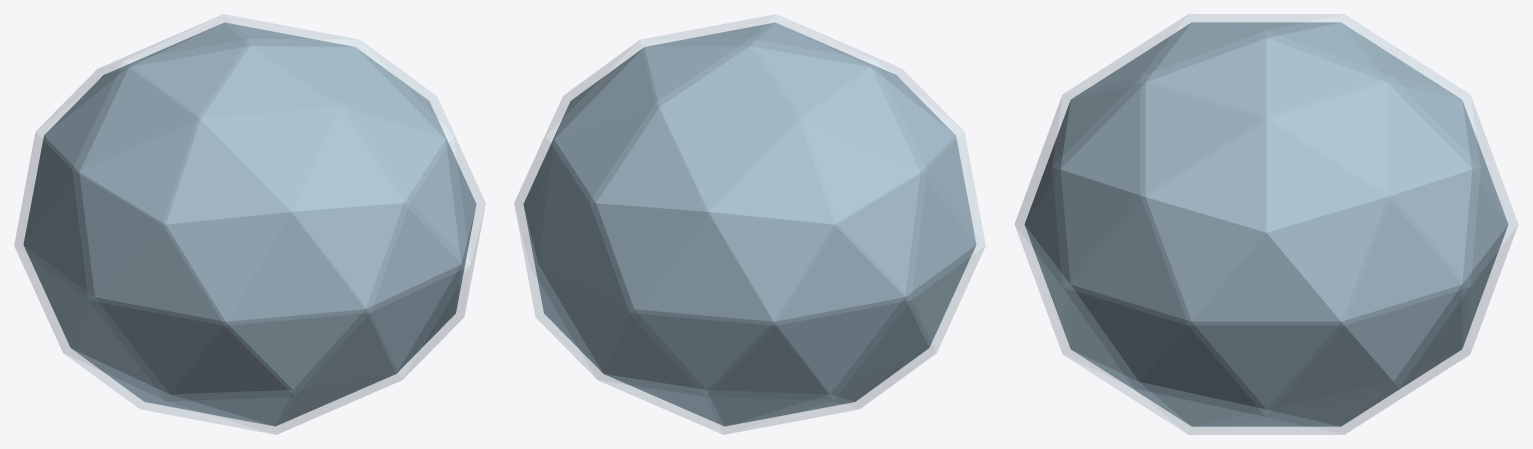
The model's file is item_gem1.glb.
The picture shows the model from 3 angles, left to right: view 1: azimuth 30°, elevation 25°; view 2: azimuth 150°, elevation 25°; view 3: azimuth 270°, elevation 25°; orthographic projection. The views are drawn at different scales.
Parts seen in each view (by area): view 1: jewellery_gem1_glass, jewellery_gem1; view 2: jewellery_gem1_glass, jewellery_gem1; view 3: jewellery_gem1_glass, jewellery_gem1.
Boxes of the visible parts, x1,y1,x2,y2 form: jewellery_gem1_glass: (14,14,485,434); jewellery_gem1: (23,22,476,426); jewellery_gem1_glass: (514,14,985,434); jewellery_gem1: (523,22,976,426); jewellery_gem1_glass: (1015,14,1517,434); jewellery_gem1: (1024,22,1508,426).
Bounding box in the file's own units: 0.9511 × 0.85 × 1.
